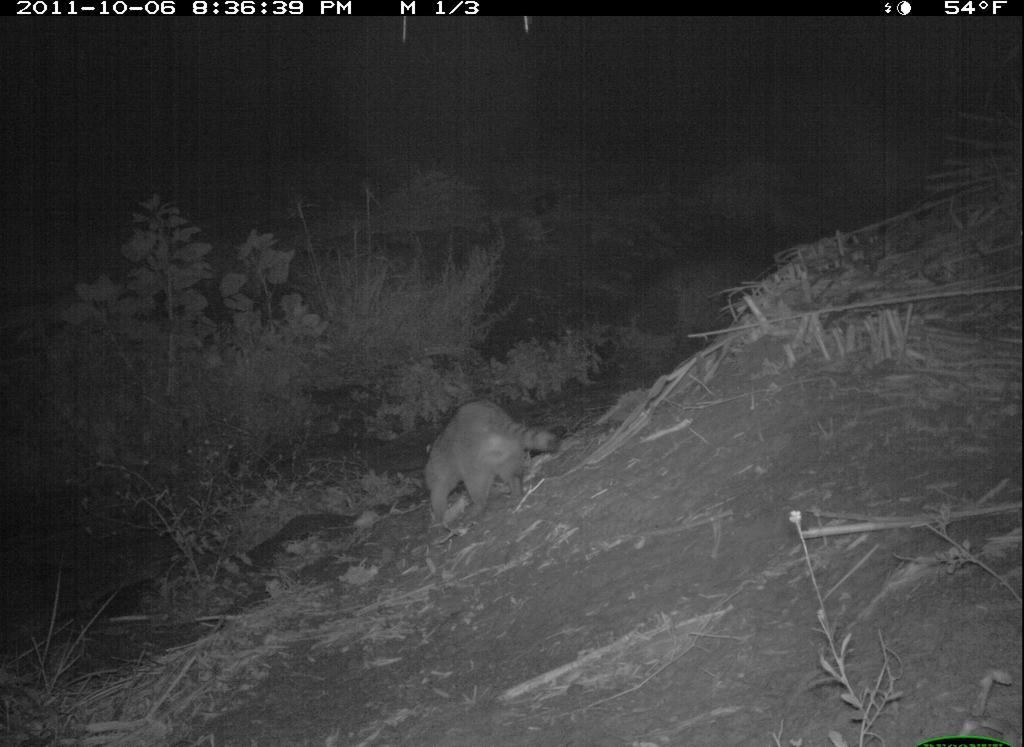raccoon: (395, 392, 578, 534)
